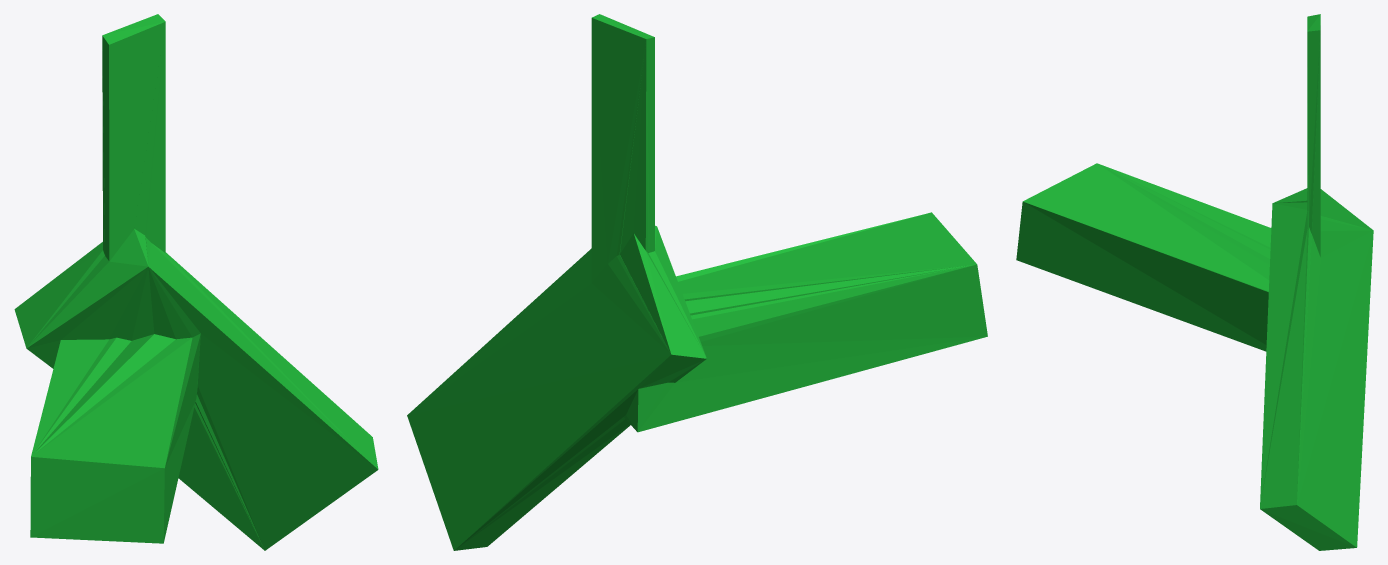
The picture shows the model from 3 angles, left to right: view 1: azimuth 30°, elevation 25°; view 2: azimuth 150°, elevation 25°; view 3: azimuth 270°, elevation 25°; orthographic projection. The views are drawn at different scales.
Visible parts, largest first — view 1: 095_Cube.396; view 2: 095_Cube.396; view 3: 095_Cube.396.
Part boxes in pixels (box(x1,y1,x2,y2)): 095_Cube.396: box(14, 14, 378, 550); 095_Cube.396: box(407, 14, 987, 550); 095_Cube.396: box(1016, 14, 1373, 550).
Size of the model in its own units: 16.54 by 19.09 by 12.97.
